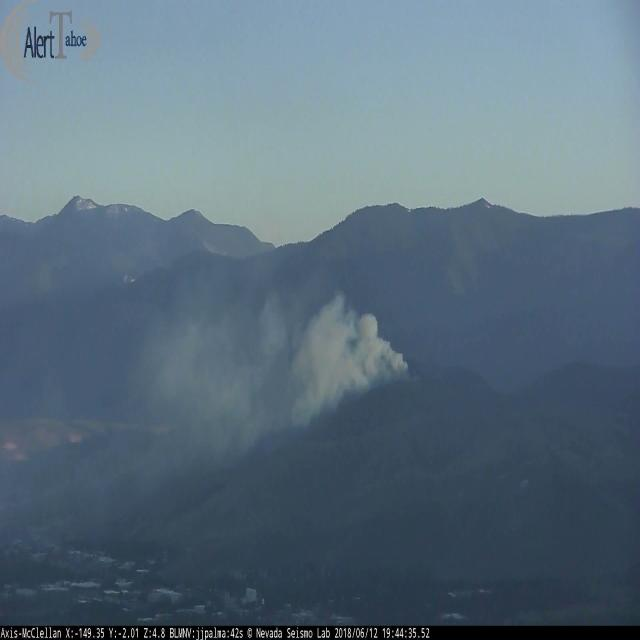smoke: (157, 297, 410, 471)
